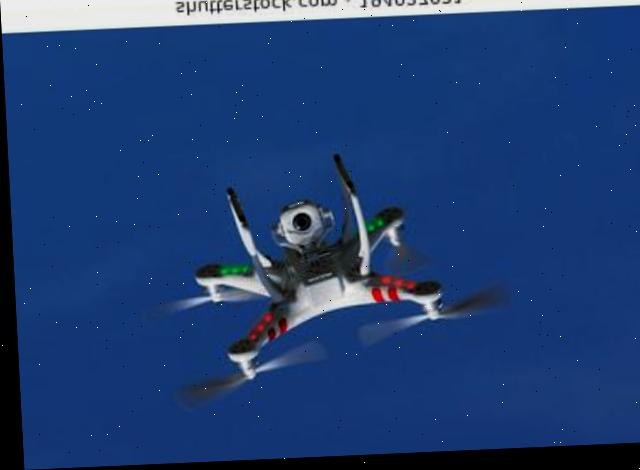drone: (115, 140, 525, 430)
